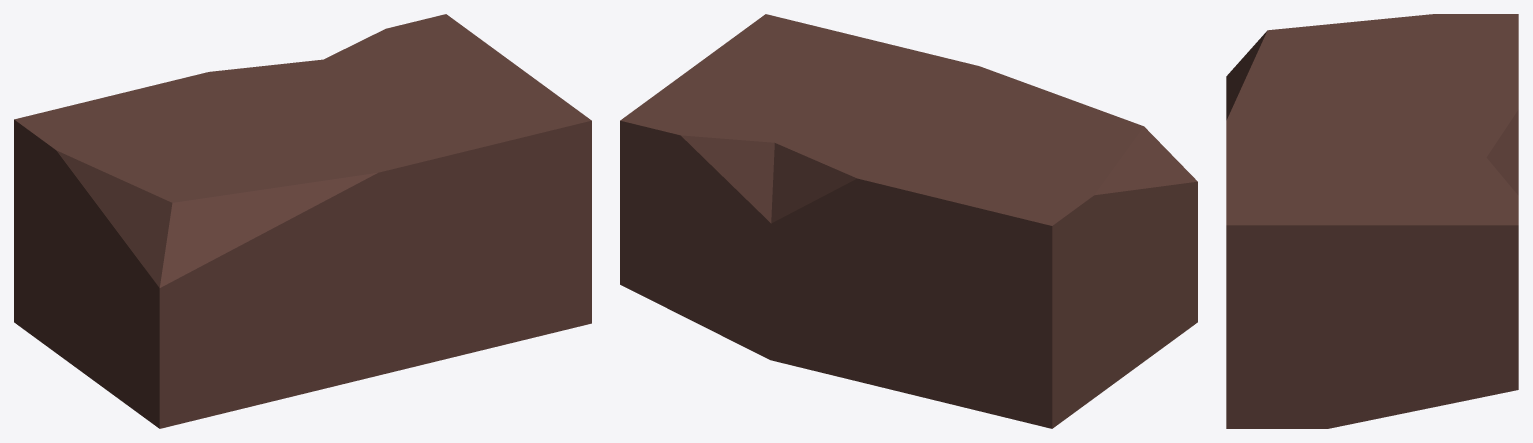
File: SM_Prop_Brick_01_712.obj
3 renders of one model, left to right at view 1: azimuth 30°, elevation 25°; view 2: azimuth 150°, elevation 25°; view 3: azimuth 270°, elevation 25°, orthographic.
Parts seen in each view (by area): view 1: SM_Prop_Brick_01_0; view 2: SM_Prop_Brick_01_0; view 3: SM_Prop_Brick_01_0.
Part boxes in pixels (x1,y1,x2,y2): SM_Prop_Brick_01_0: [14, 14, 591, 428]; SM_Prop_Brick_01_0: [620, 14, 1197, 428]; SM_Prop_Brick_01_0: [1226, 14, 1518, 428].
Size of the model in its own units: 0.432 by 0.1939 by 0.2522.
1 material, 1 textured.
